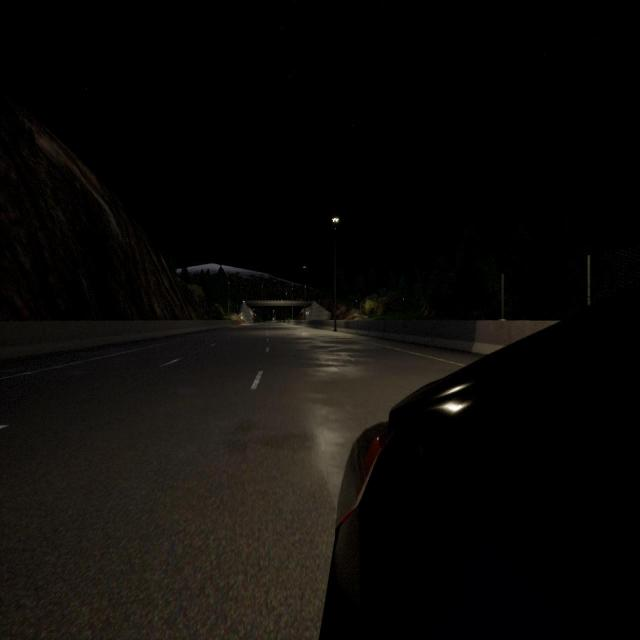Traffic_Signs: (240, 316, 243, 320)
Vehicle: (320, 287, 640, 637)
